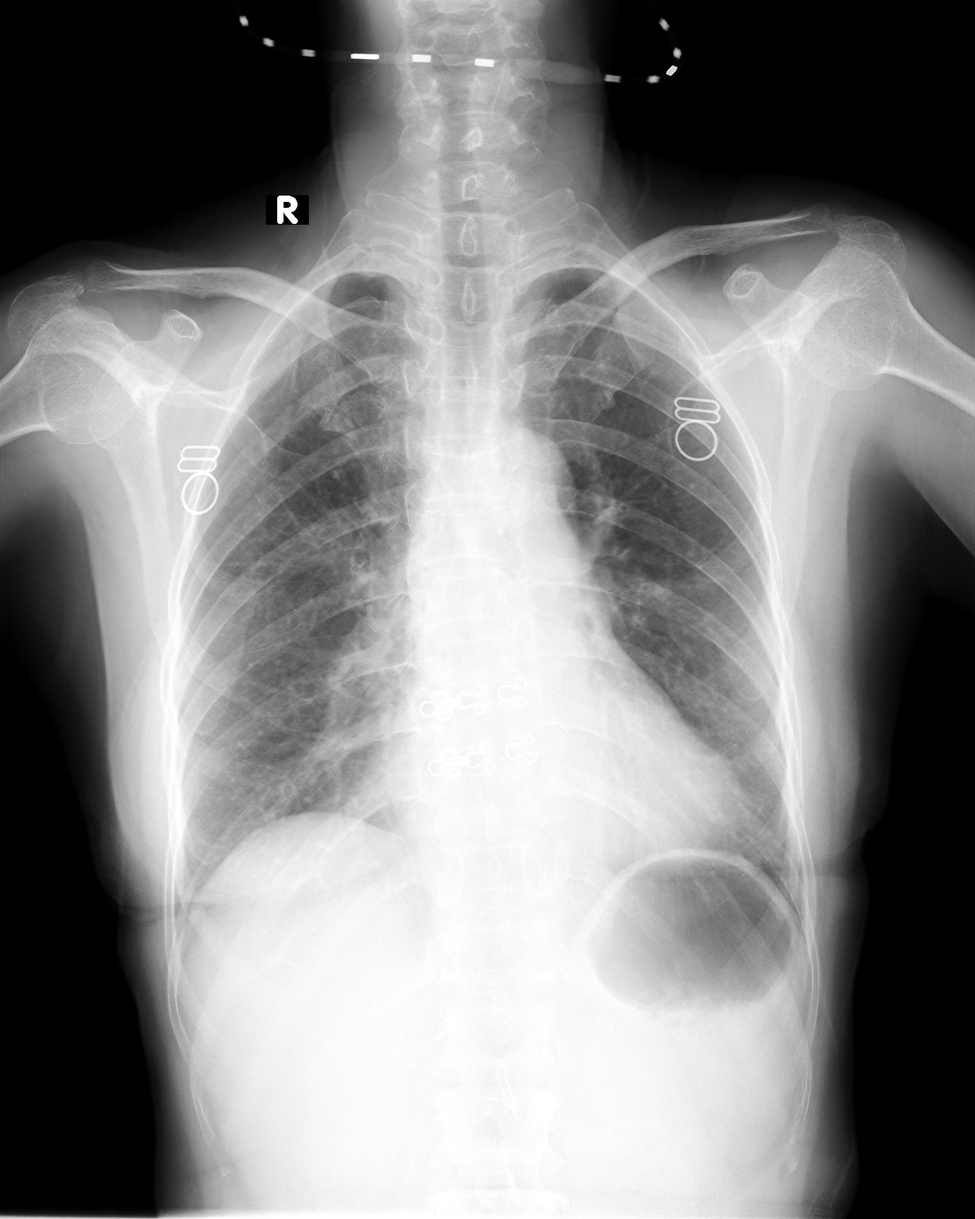Aortic enlargement: (475, 423, 578, 544)
Cardiomegaly: (373, 719, 743, 845)
